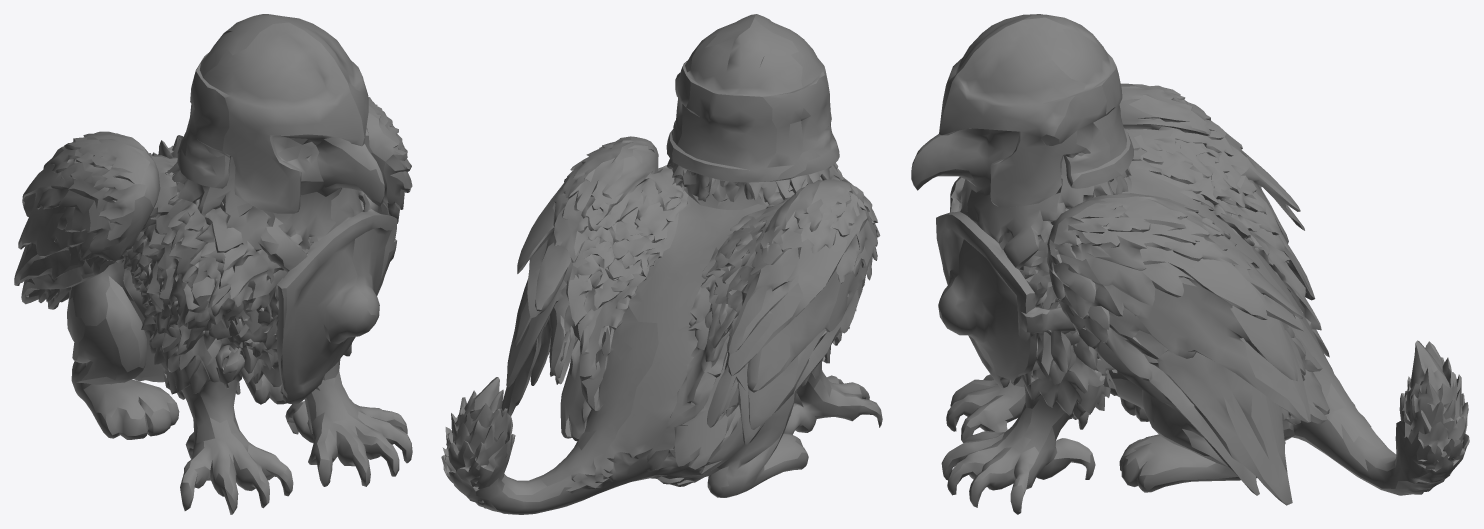
The model's file is completion_griffin_2.glb.
3 renders of one model, left to right at view 1: azimuth 30°, elevation 25°; view 2: azimuth 150°, elevation 25°; view 3: azimuth 270°, elevation 25°, orthographic. The views are drawn at different scales.
Parts seen in each view (by area): view 1: geometry_0; view 2: geometry_0; view 3: geometry_0.
Part boxes in pixels (box(x1,y1,x2,y2)): geometry_0: box(14, 14, 412, 514); geometry_0: box(441, 14, 882, 514); geometry_0: box(911, 14, 1469, 514).
Size of the model in its own units: 0.7119 by 0.8732 by 0.999.
1 material, 1 textured.
